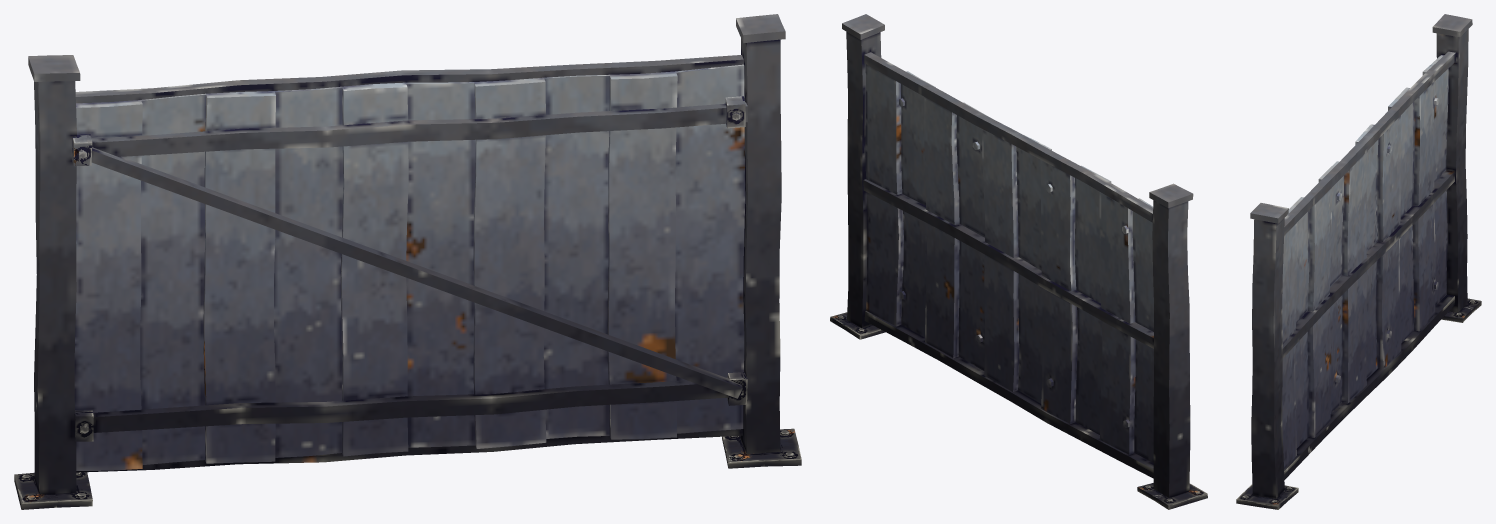
3 views of the same model, side by side, from view 1: azimuth 30°, elevation 25°; view 2: azimuth 150°, elevation 25°; view 3: azimuth 270°, elevation 25° (orthographic). The views are drawn at different scales.
Parts seen in each view (by area): view 1: Sheets, Posts, Fittings; view 2: Sheets, Posts, Fittings; view 3: Sheets, Posts, Fittings.
Part boxes in pixels (x1,y1,x2,y2): Sheets: (74,64,745,470); Posts: (28,14,785,494); Fittings: (14,96,801,509); Sheets: (865,64,1153,462); Posts: (842,14,1193,497); Fittings: (830,312,1207,509); Sheets: (1282,55,1448,469); Posts: (1250,14,1472,498); Fittings: (1236,298,1481,509).
Bounding box in the file's own units: 12.71 × 7.98 × 6.14.
Materials: 3 (3 with a texture image).
